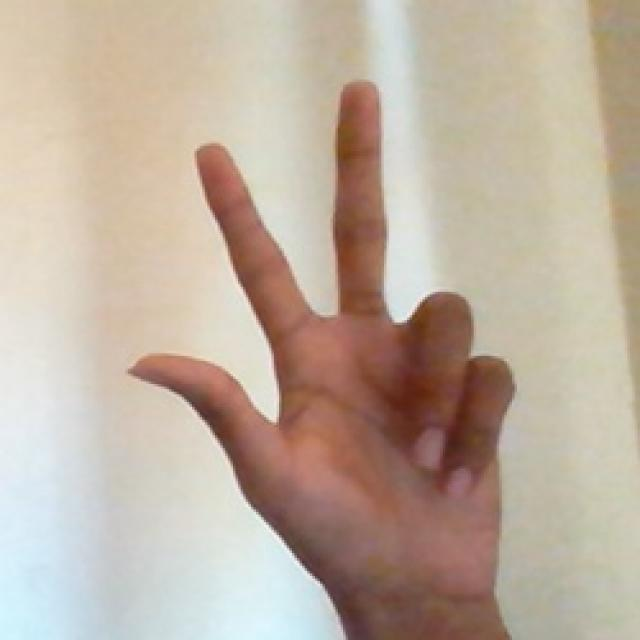Numeric-3: (123, 82, 509, 622)
